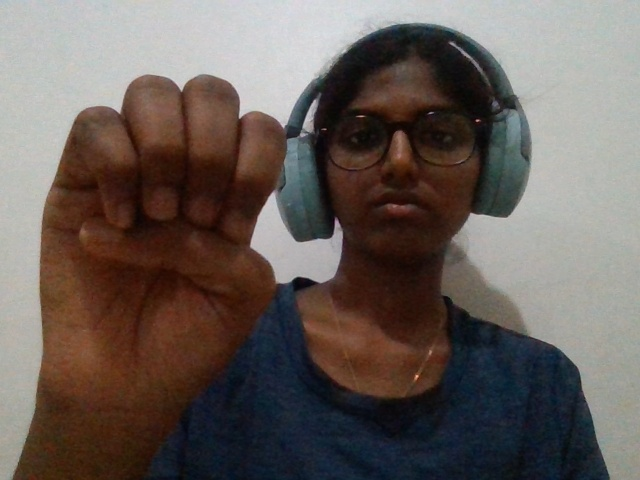E: (18, 52, 332, 476)
